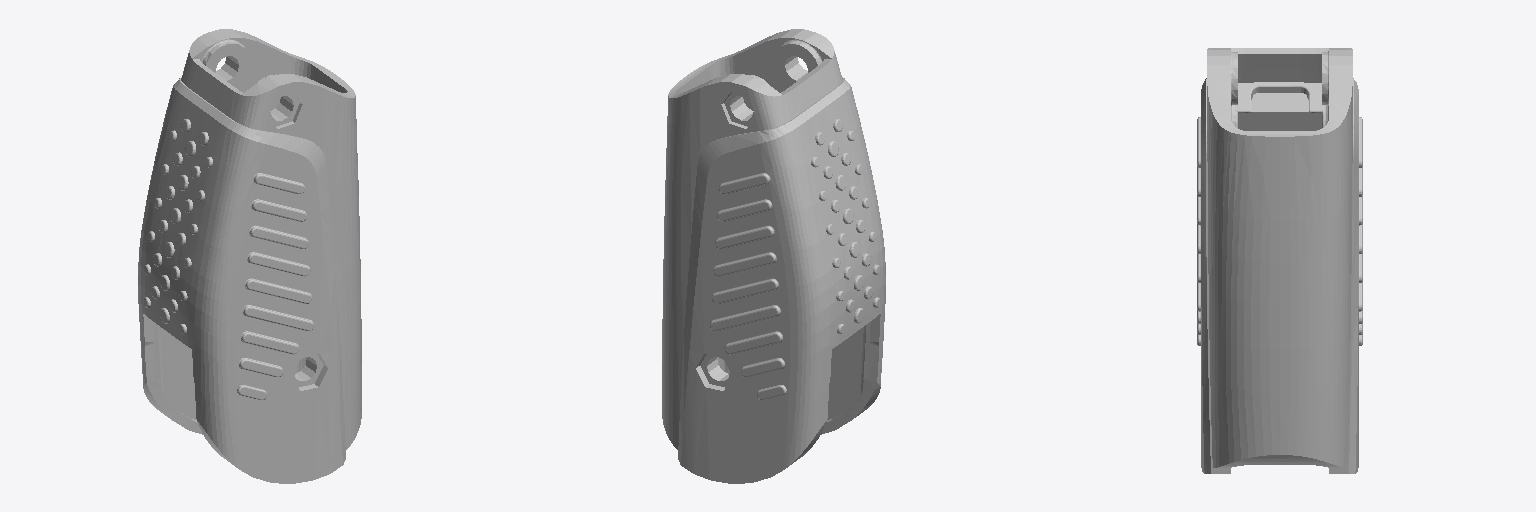
File: right_middle_1_visuals.obj
3 views of the same model, side by side, from view 1: azimuth 30°, elevation 25°; view 2: azimuth 150°, elevation 25°; view 3: azimuth 270°, elevation 25° (orthographic).
Bounding box in the file's own units: 0.024 × 0.0493 × 0.0184.